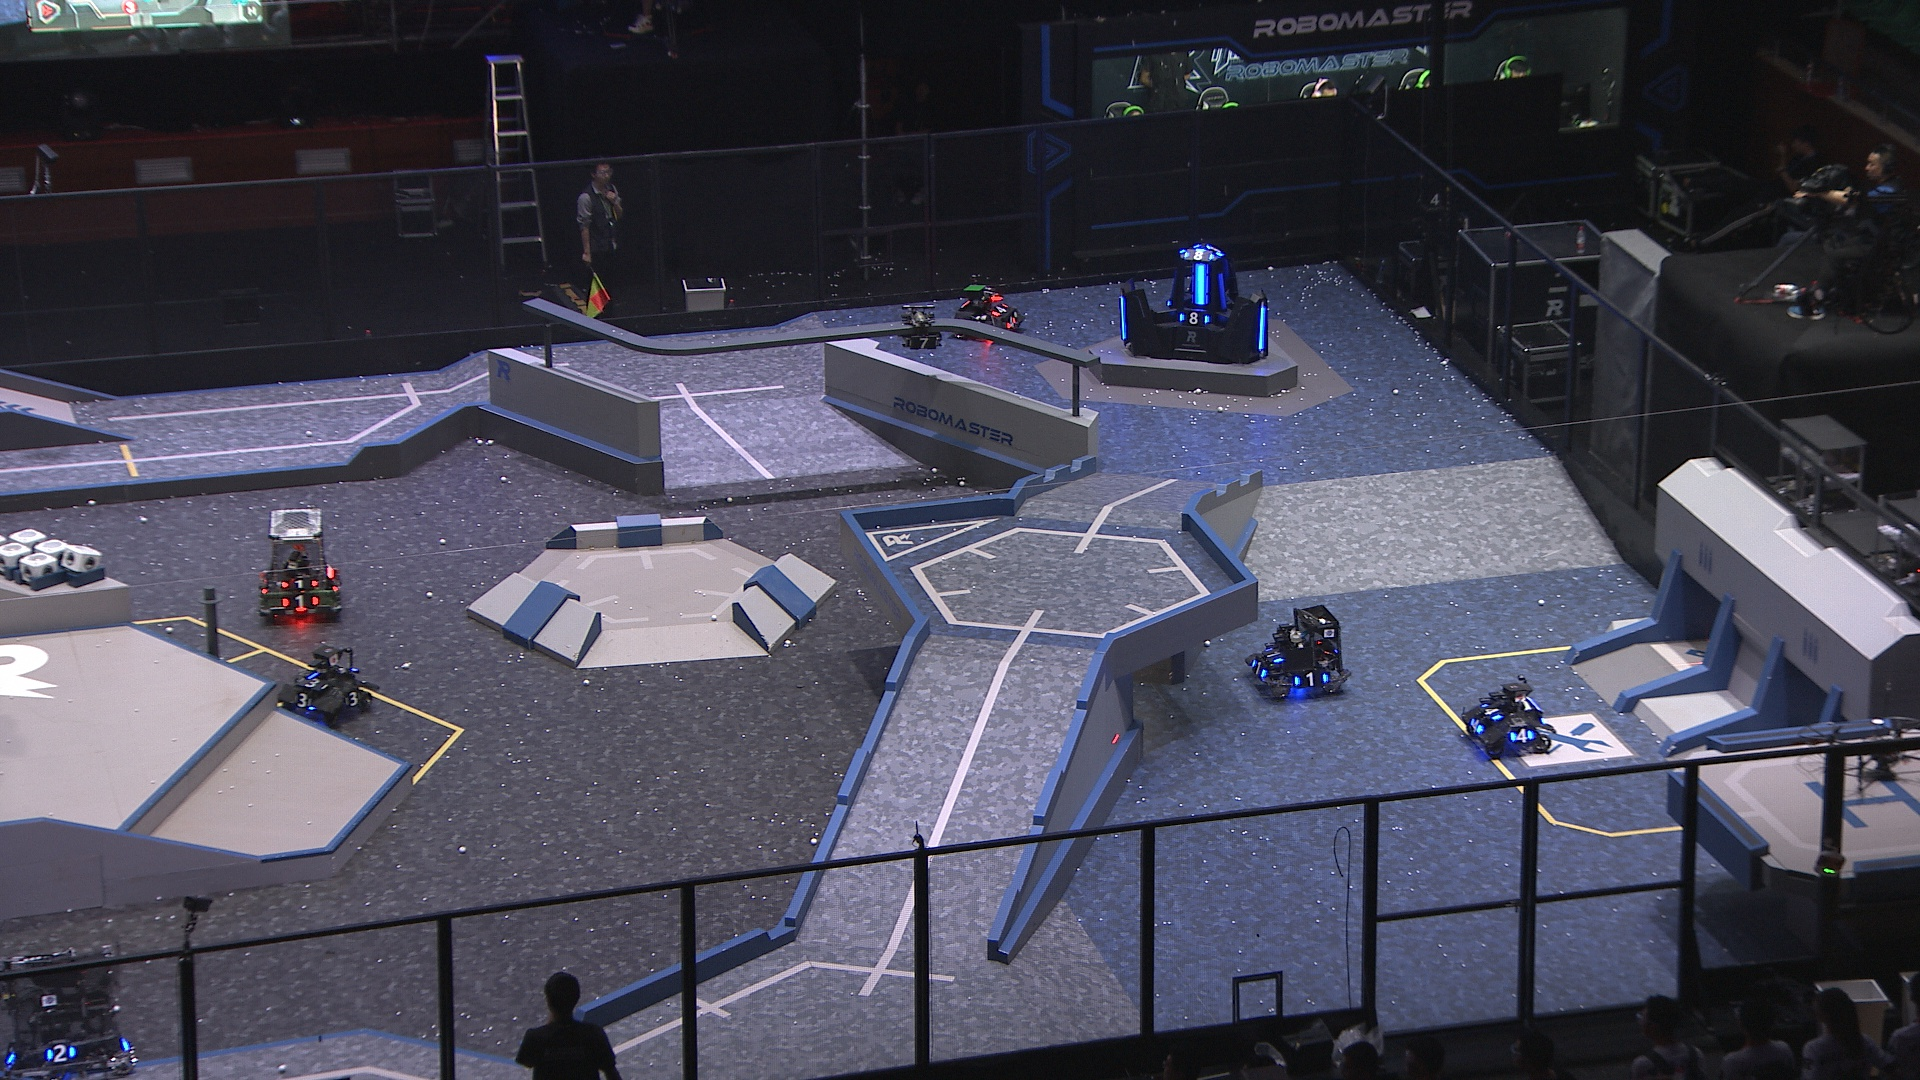armor: (1191, 262, 1211, 305), (1292, 670, 1331, 688), (280, 593, 320, 611), (46, 1043, 76, 1065), (1255, 306, 1269, 352), (1215, 272, 1229, 311), (1178, 309, 1212, 324), (281, 576, 319, 589), (1506, 727, 1538, 742), (1120, 295, 1130, 342), (906, 335, 939, 349), (1247, 657, 1269, 678), (291, 690, 314, 709), (1185, 248, 1215, 262), (295, 676, 330, 688), (1480, 702, 1503, 719), (1265, 645, 1284, 665), (343, 688, 361, 708), (989, 301, 1011, 316), (1470, 717, 1485, 736)
base: (1116, 243, 1271, 365)
car: (1244, 603, 1352, 703), (257, 505, 345, 622), (277, 645, 380, 725), (1461, 675, 1557, 760), (949, 282, 1025, 344)
watcher: (899, 301, 944, 351)
